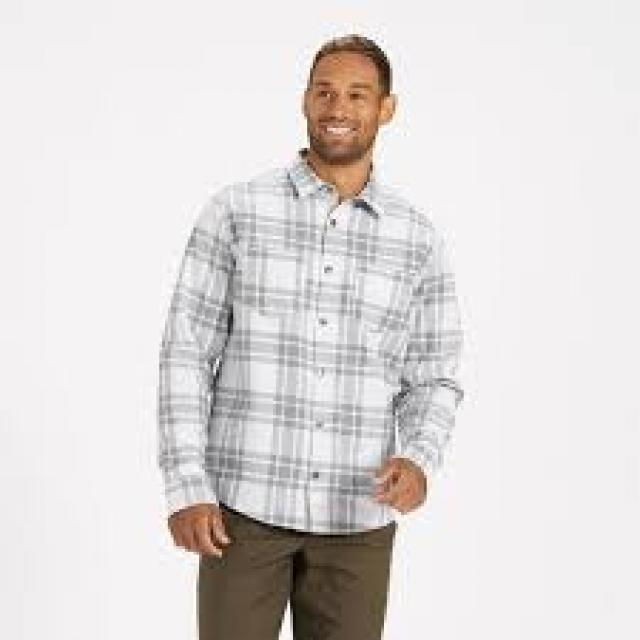plaid: (162, 167, 480, 531)
